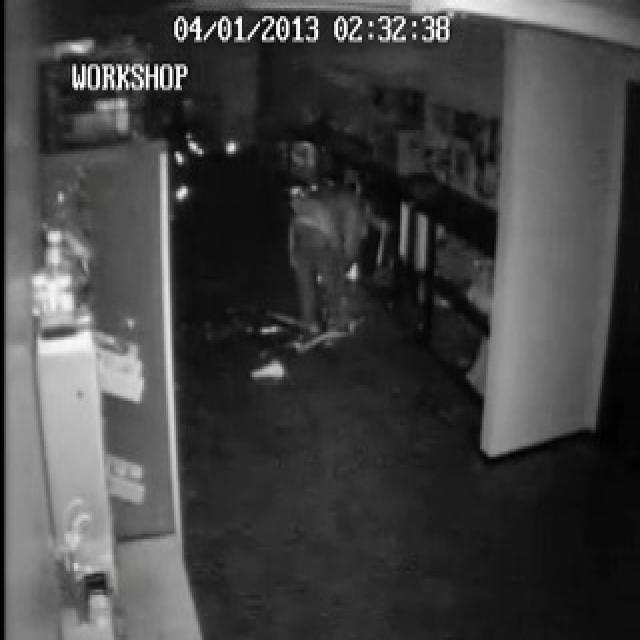thief: (284, 166, 362, 328)
